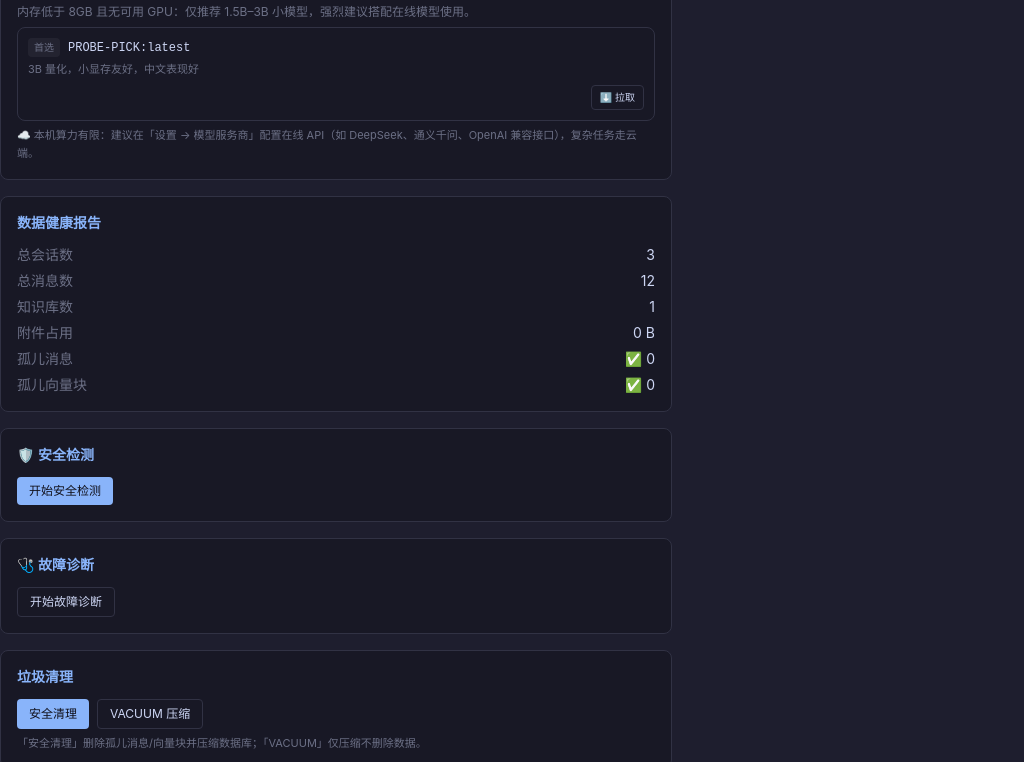
Test: ② 两颗用户按下的键：失败得当场说一句 › 反向对照：检测成功 ⇒ 结果逐条上屏，且没有那条 toast
(page scrolled)
Expected: the text "PROBE-PICK:latest" is shown, left=68, top=40, right=190, bottom=56
What coordinates should you click on to do the following:
click the button "开始安全检测"
I would click on:
 (65, 491)
Its box is left=17, top=477, right=113, bottom=505.
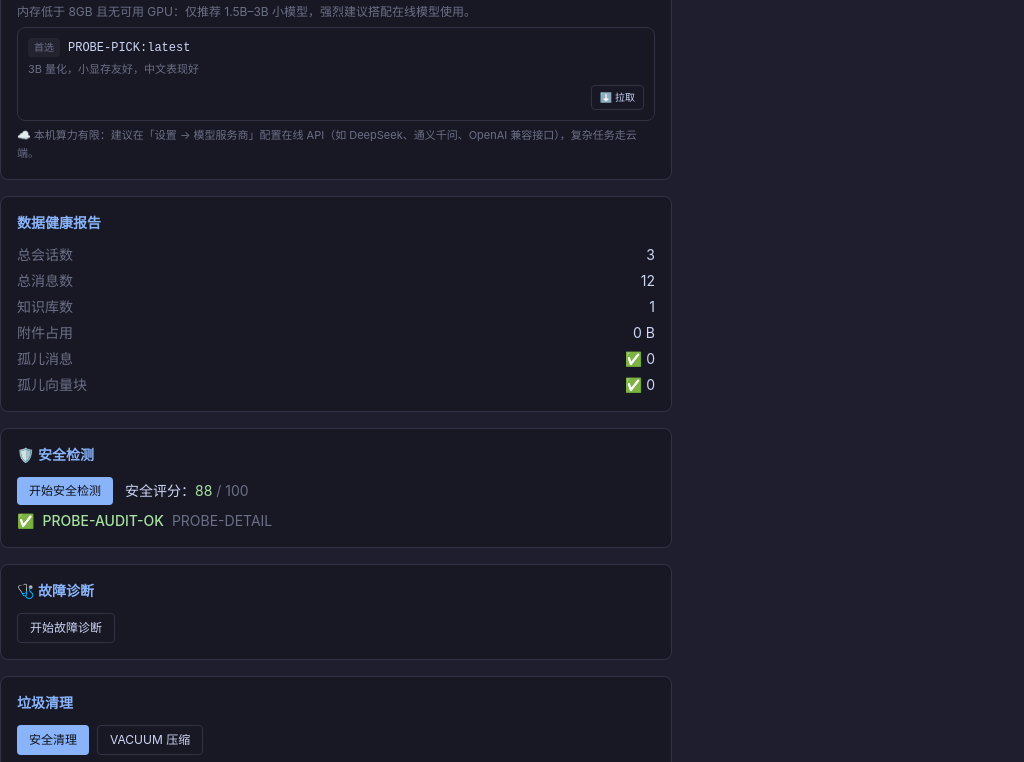
Expected: the text "PROBE-AUDIT-OK" is shown, left=42, top=512, right=164, bottom=529
